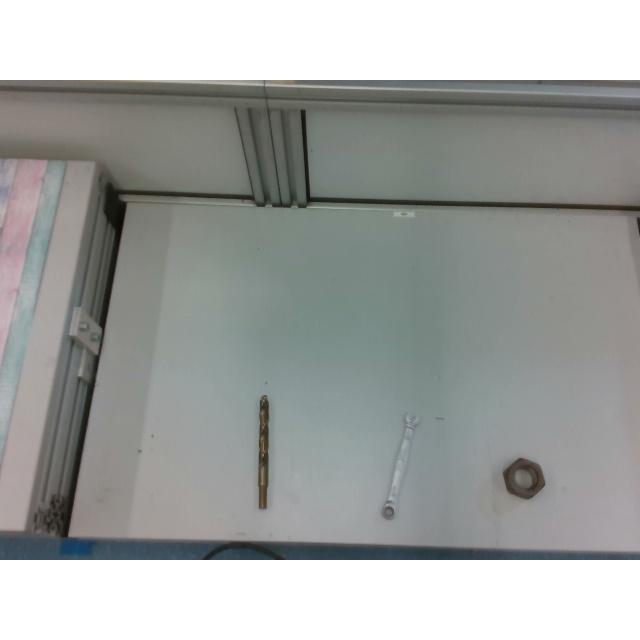Drill: (257, 394, 269, 510)
M30: (502, 456, 548, 499)
Wrench: (383, 412, 419, 518)
